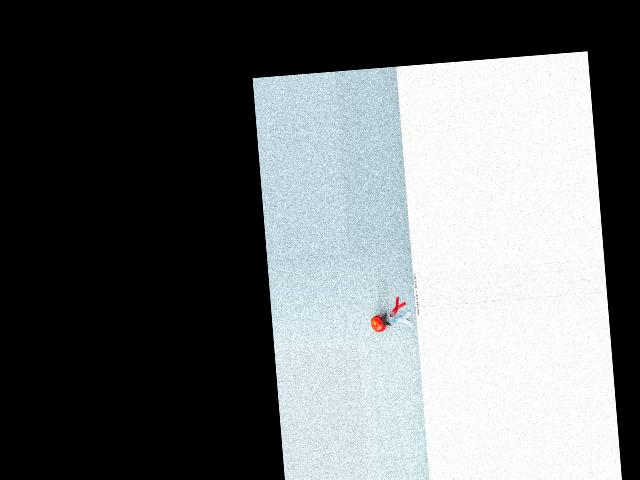tomato: (370, 314, 387, 332)
